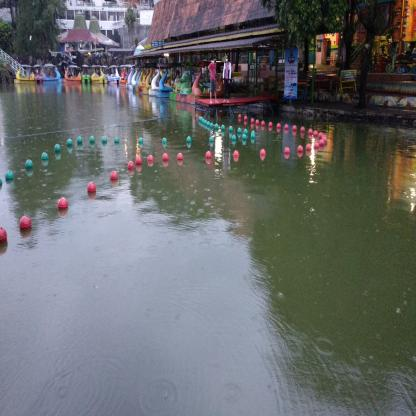green_buoy: (5, 169, 13, 184), (25, 159, 33, 170), (54, 144, 61, 152), (41, 152, 48, 160), (67, 138, 72, 148), (186, 136, 192, 144), (251, 130, 256, 138), (242, 134, 247, 142), (102, 137, 107, 145), (77, 137, 82, 145), (90, 136, 94, 145), (237, 128, 242, 135), (114, 137, 119, 144), (138, 138, 143, 145), (162, 138, 167, 145), (214, 124, 219, 130), (198, 116, 202, 123), (232, 135, 236, 142), (229, 126, 233, 132), (244, 129, 248, 135), (251, 134, 255, 140), (207, 121, 210, 128), (210, 137, 214, 142), (222, 125, 225, 131), (202, 119, 205, 124), (204, 121, 207, 126), (210, 123, 213, 128)
red_buoy: (19, 215, 31, 231), (58, 197, 67, 212), (86, 181, 96, 194), (0, 227, 7, 245), (110, 170, 118, 182), (147, 155, 154, 166), (127, 161, 135, 170), (162, 152, 169, 162), (135, 156, 142, 166), (284, 147, 291, 156), (205, 151, 211, 160), (177, 153, 183, 162), (306, 144, 312, 152), (298, 145, 304, 153), (234, 150, 240, 158), (322, 136, 327, 145), (308, 128, 313, 136), (260, 149, 265, 157), (318, 133, 323, 140), (314, 143, 319, 150), (300, 127, 305, 133), (313, 131, 318, 137), (320, 140, 324, 147), (250, 119, 255, 124), (256, 120, 260, 126), (277, 123, 281, 129), (293, 126, 297, 132), (261, 121, 265, 126), (285, 124, 288, 130), (238, 115, 242, 119), (269, 122, 272, 127), (244, 116, 247, 120)
